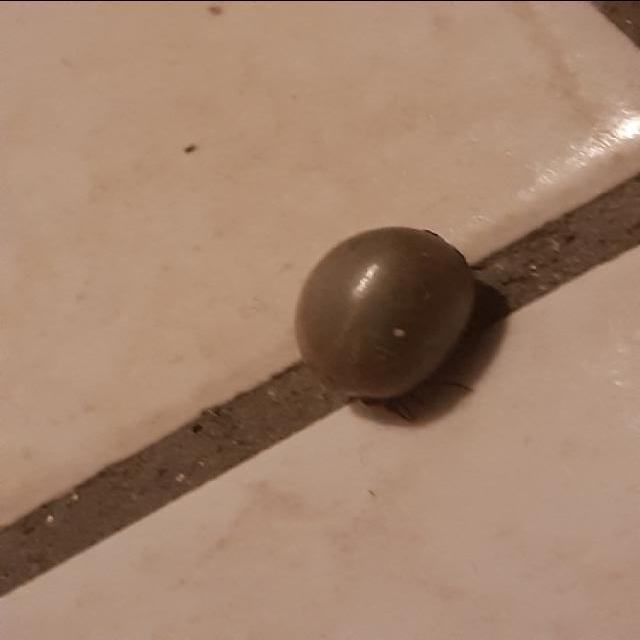Ixodes Ricinus-F-Fed: (295, 225, 480, 421)
